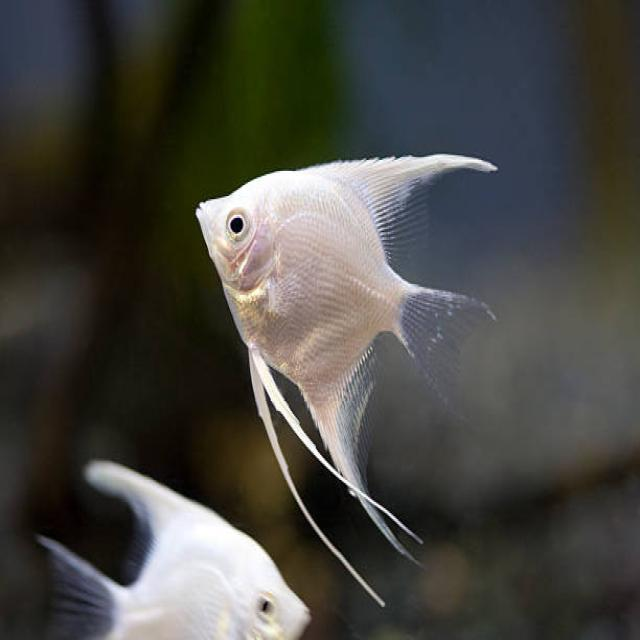AngelFish: (192, 148, 498, 612), (31, 456, 310, 640)
